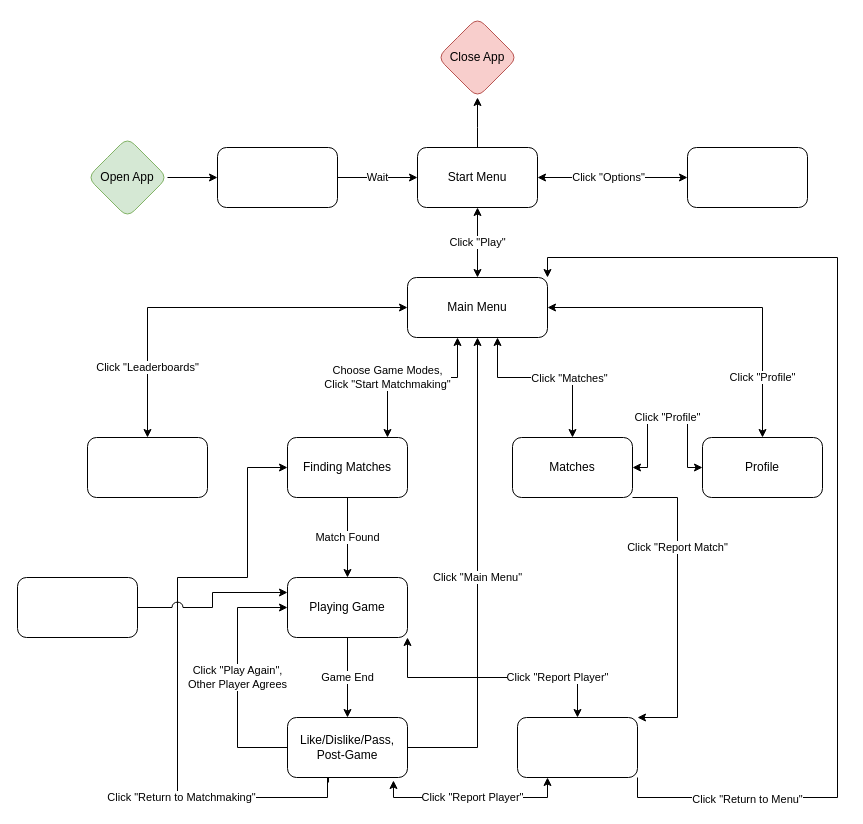
Image size: 863x824. Some labels were removed from this diagram. Here are the shapes that lost their labels. From the top down, the box of each, then its label:
(216, 146, 338, 208): Startup Sequence
(686, 146, 808, 208): Options Screen
(86, 436, 208, 498): Leaderboards Per Game
(16, 576, 138, 638): Invite Accepted
(516, 716, 638, 778): Report Player
